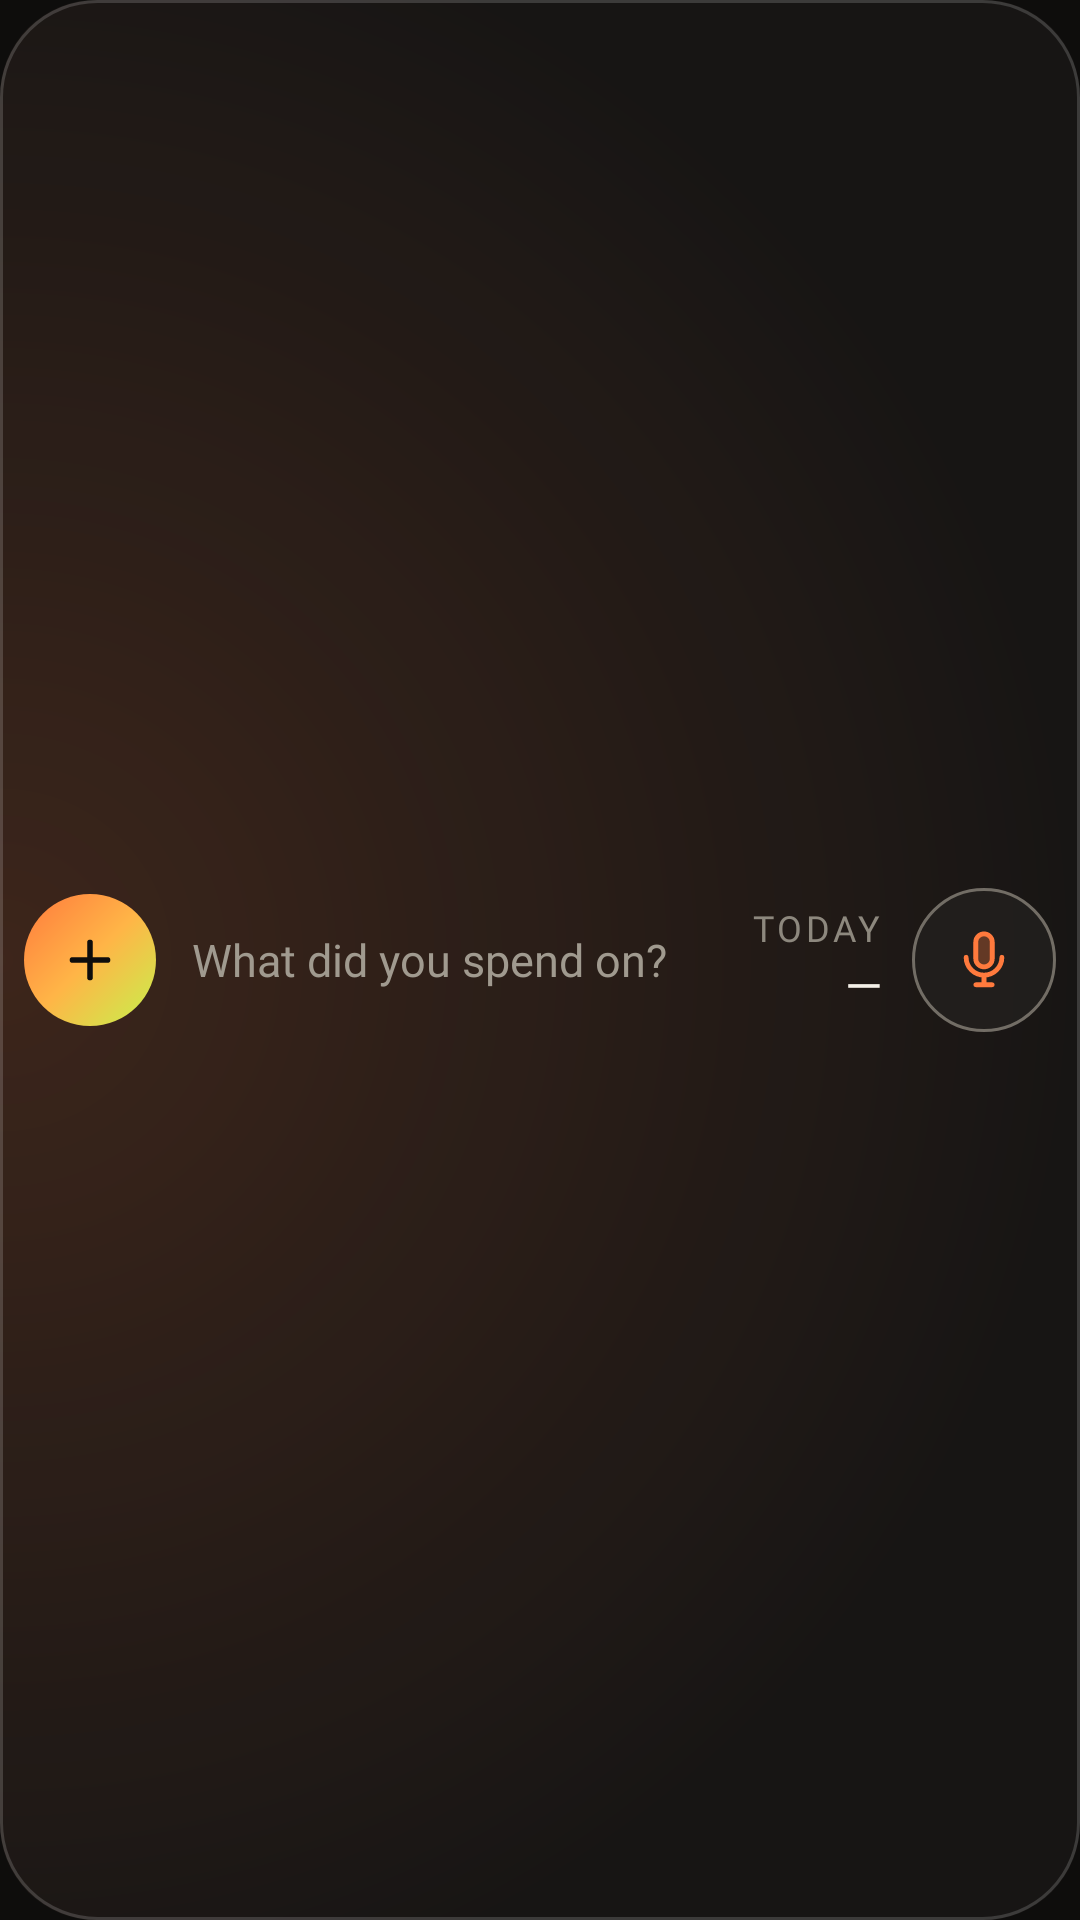

Point at icon controls on the screen. Image size 1080 × 1920, points as (x,y).
widget add: (94,964)
widget mic: (984,959)
